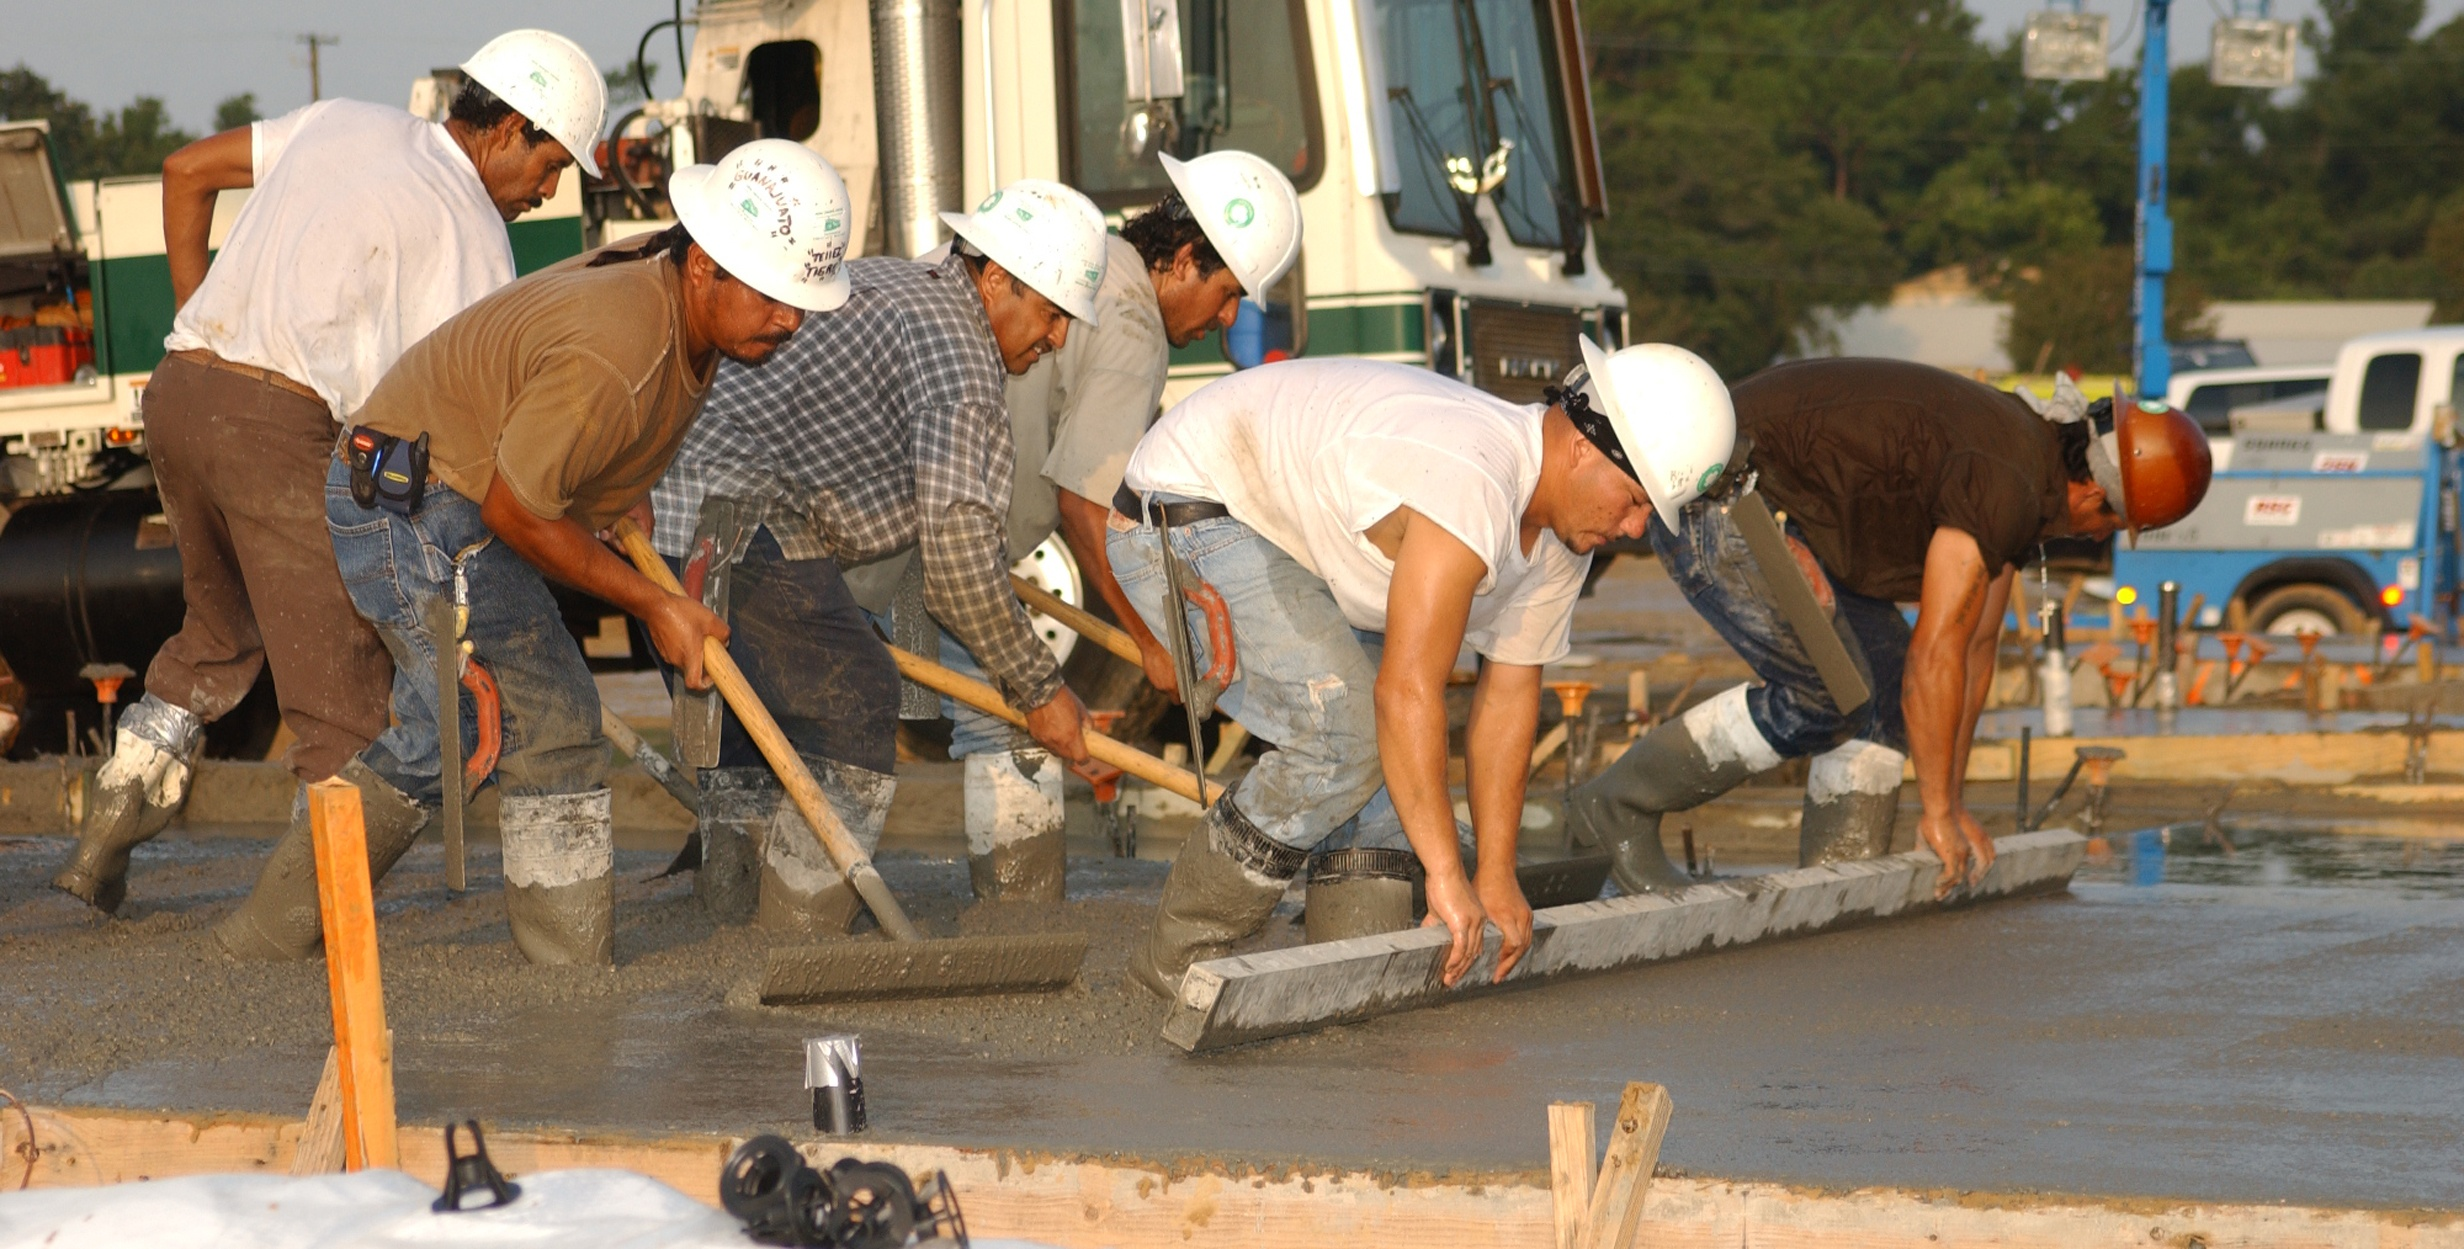red: (2069, 392, 2211, 551)
white: (1543, 338, 1736, 558), (667, 135, 854, 355), (441, 22, 610, 215), (1137, 150, 1300, 335), (959, 170, 1112, 355)
